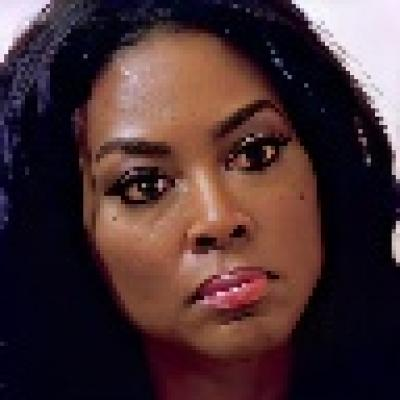angry: (84, 53, 321, 346)
